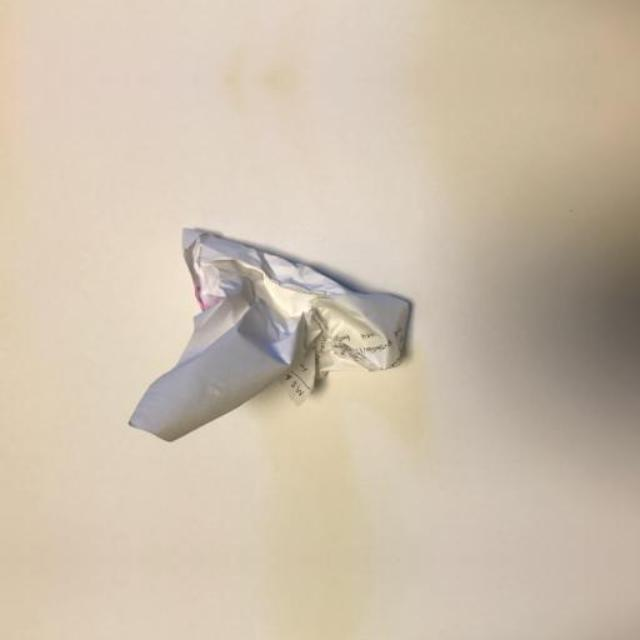paper: (100, 186, 430, 488), (100, 631, 430, 640)
